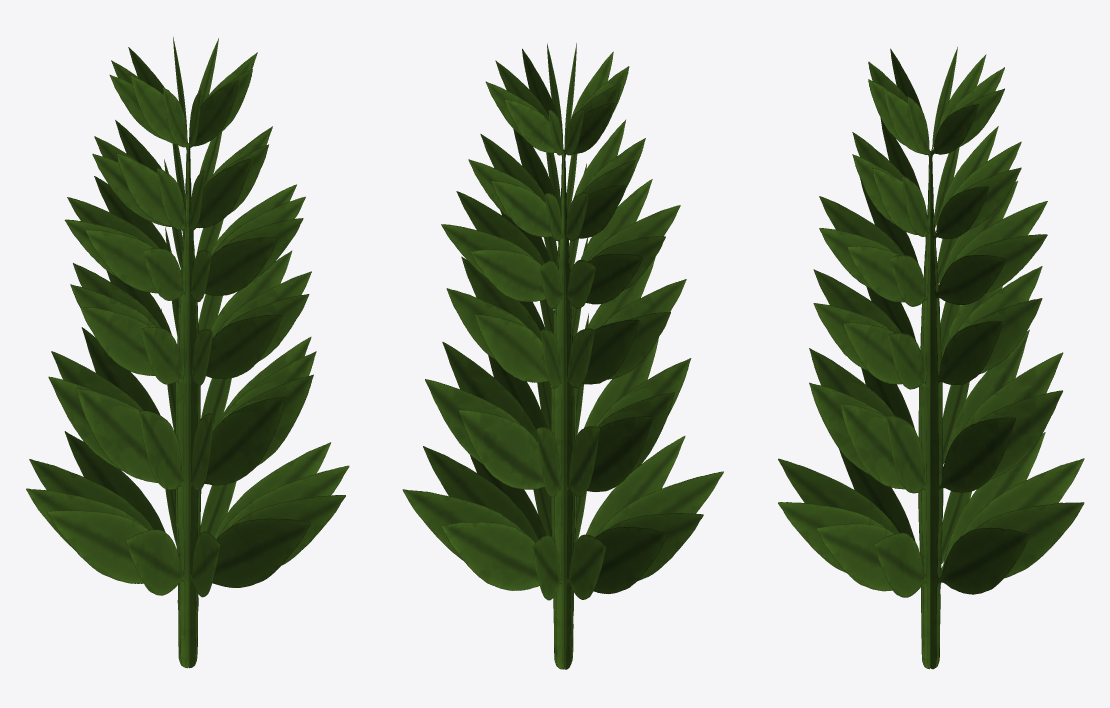
Rendered from foliagebatch.fbx.
The picture shows the model from 3 angles, left to right: view 1: azimuth 30°, elevation 25°; view 2: azimuth 150°, elevation 25°; view 3: azimuth 270°, elevation 25°; orthographic projection.
Parts seen in each view (by area): view 1: Foliage_09; view 2: Foliage_09; view 3: Foliage_09.
Boxes of the visible parts, x1,y1,x2,y2 form: Foliage_09: (26, 37, 349, 668); Foliage_09: (402, 43, 723, 669); Foliage_09: (778, 47, 1084, 669).
Size of the model in its own units: 0.4214 by 0.8429 by 0.3992.
